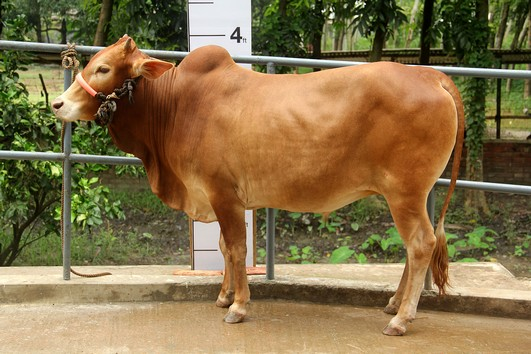cow: (45, 26, 472, 339)
